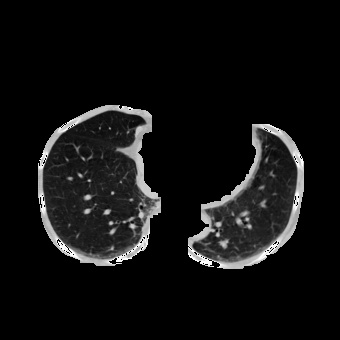PN: (219, 239, 227, 247)
